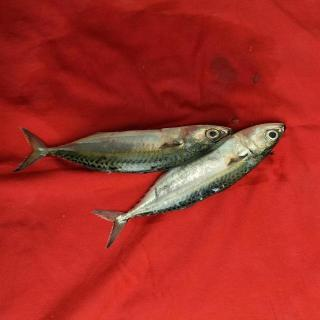Ikan: (8, 111, 290, 251)
